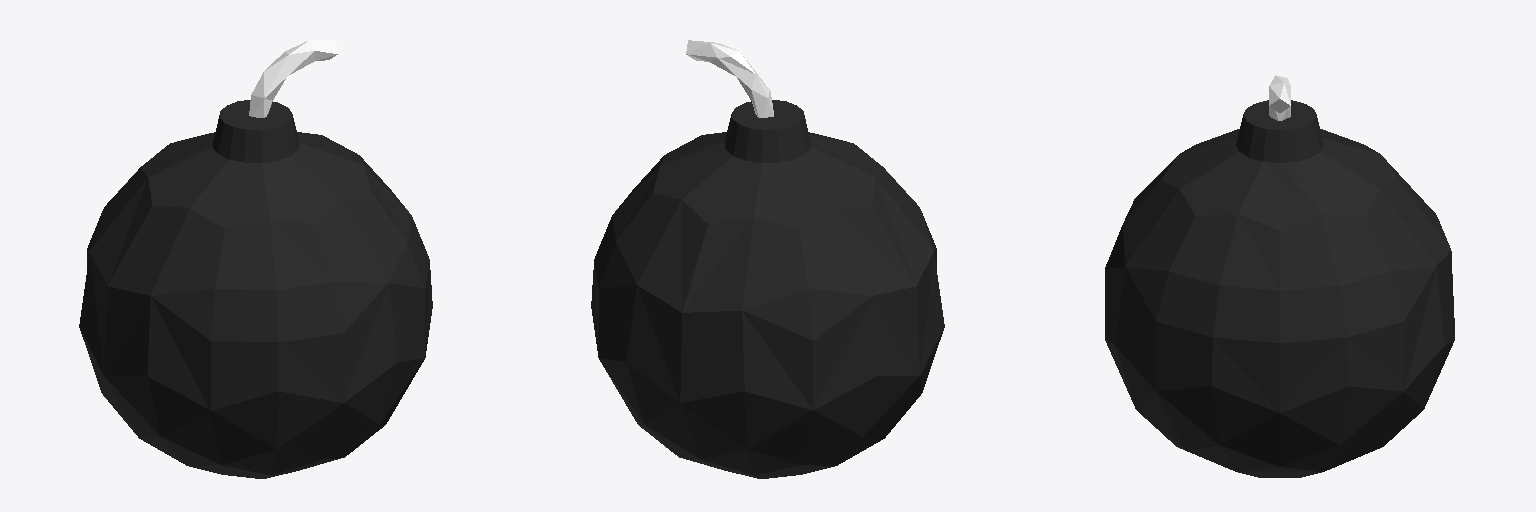
The model's file is bomb2.obj.
3 views of the same model, side by side, from view 1: azimuth 30°, elevation 25°; view 2: azimuth 150°, elevation 25°; view 3: azimuth 270°, elevation 25° (orthographic).
Parts seen in each view (by area): view 1: bomb, fuse; view 2: bomb, fuse; view 3: bomb, fuse.
Boxes of the visible parts, box(x1,y1,x2,y2) form: bomb: box(79, 100, 432, 478); fuse: box(249, 40, 337, 117); bomb: box(591, 100, 944, 478); fuse: box(686, 40, 773, 117); bomb: box(1105, 100, 1454, 477); fuse: box(1269, 75, 1290, 120).
Bounding box in the file's own units: 7.97 × 10.07 × 7.97.